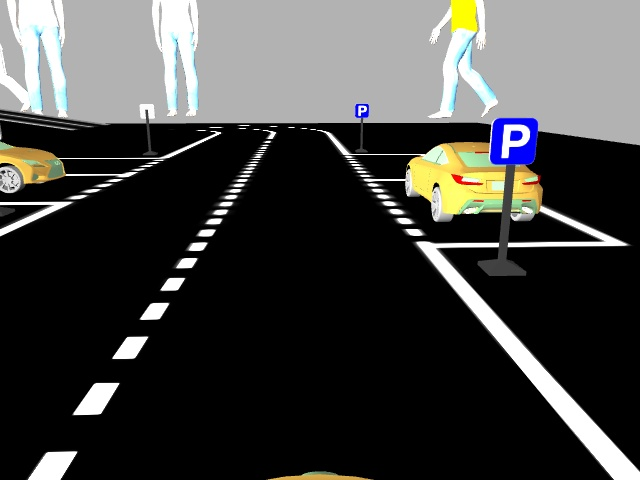Parking: (487, 116, 537, 164), (353, 103, 369, 119)
